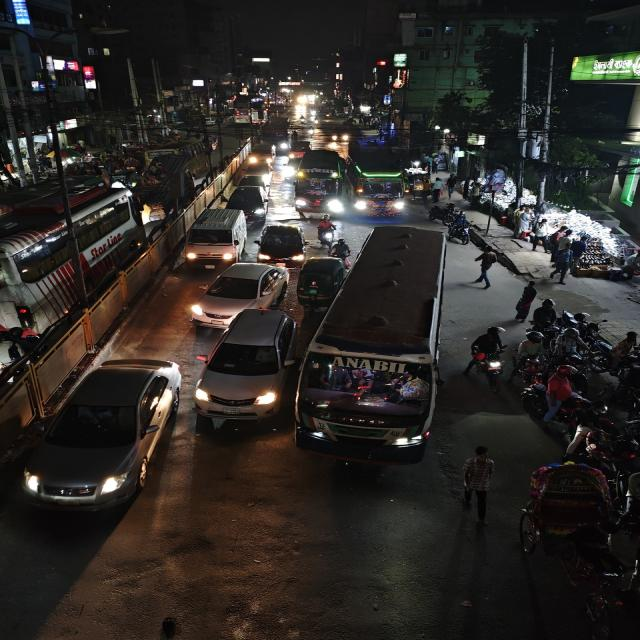bus: (300, 223, 453, 468), (6, 180, 140, 333), (345, 151, 409, 219), (292, 147, 345, 219)
car: (18, 356, 185, 514), (197, 307, 299, 426), (191, 260, 290, 326), (257, 222, 308, 263), (226, 182, 272, 218), (248, 143, 275, 169)
cng: (295, 256, 343, 300), (256, 222, 306, 264)
motorcycle: (466, 324, 509, 388), (0, 319, 35, 388), (314, 215, 341, 247), (329, 237, 351, 265)
pedestrian: (456, 443, 502, 523), (472, 247, 501, 289), (513, 278, 538, 322), (532, 296, 558, 332)
rickshaw: (514, 458, 617, 556)
truck: (181, 208, 247, 266)
